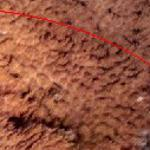alive: (1, 9, 148, 147)
